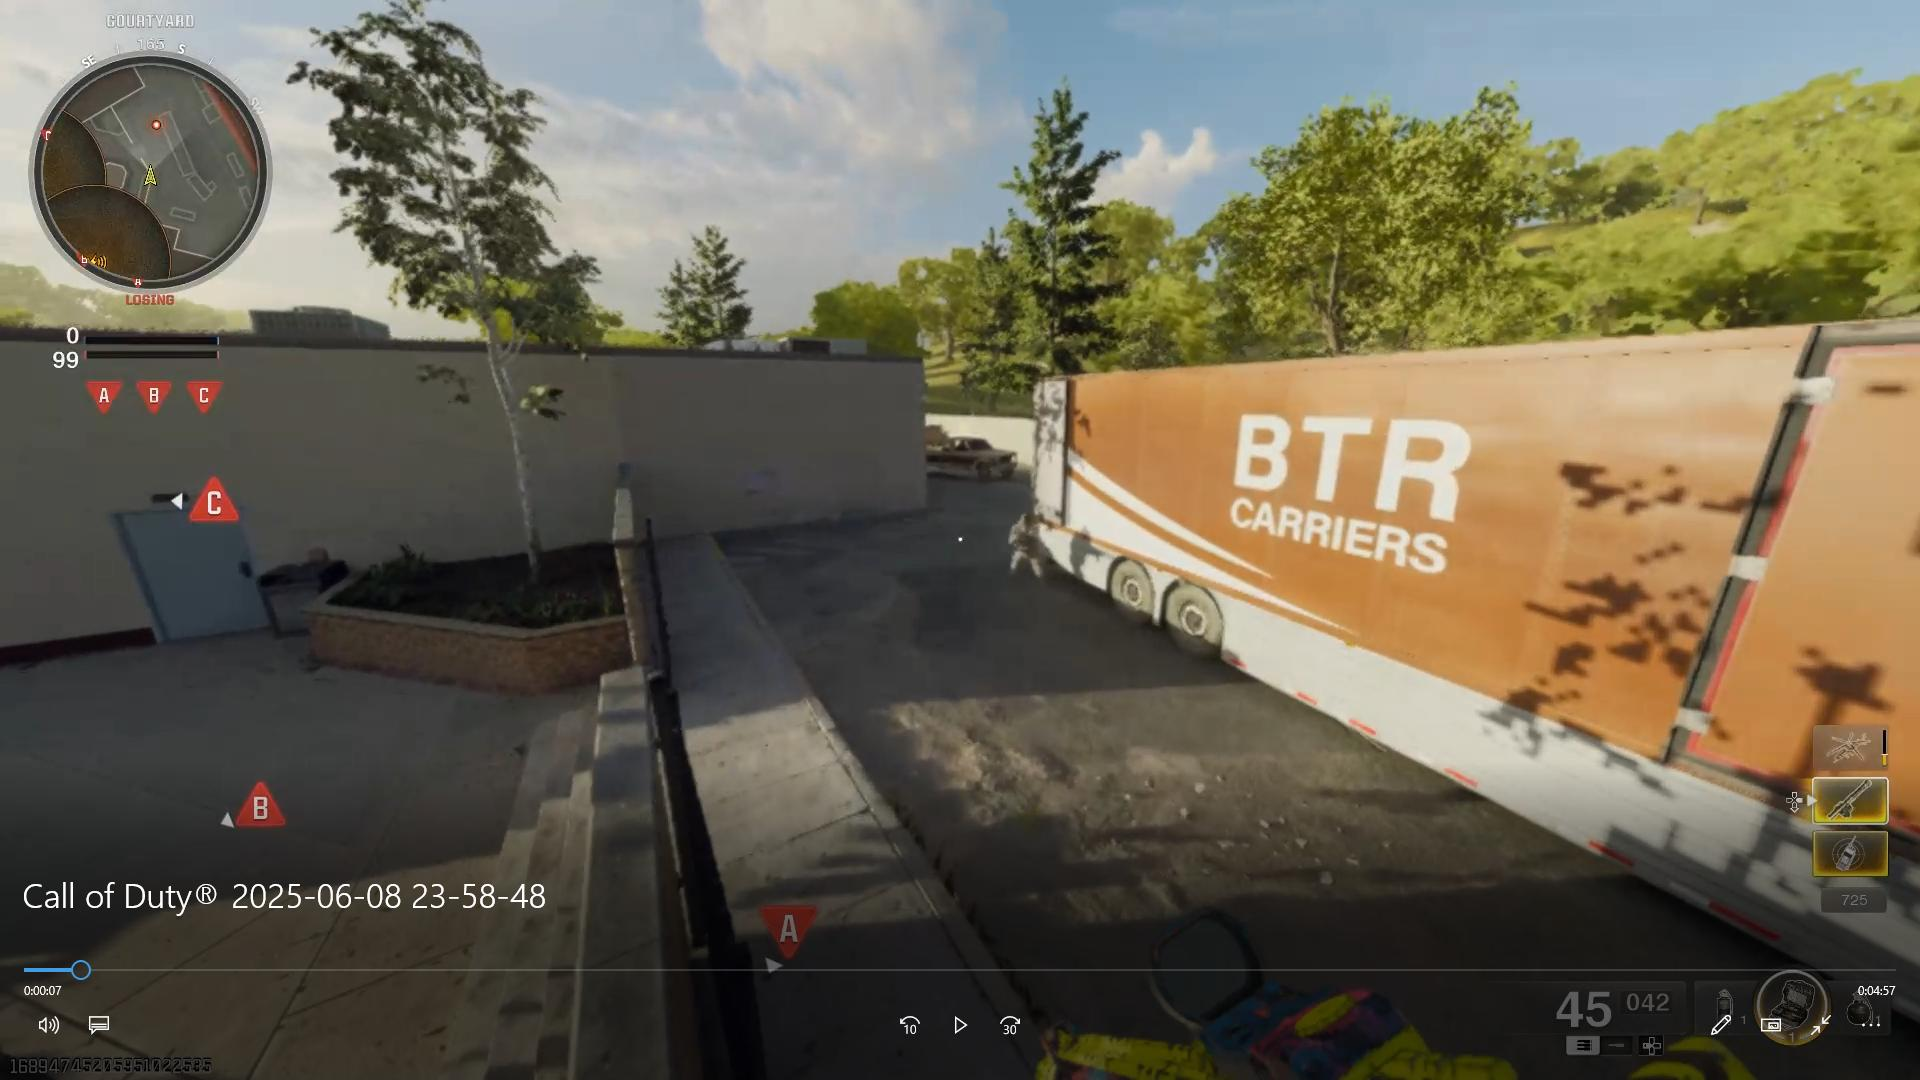Enemy: (997, 508, 1051, 597)
